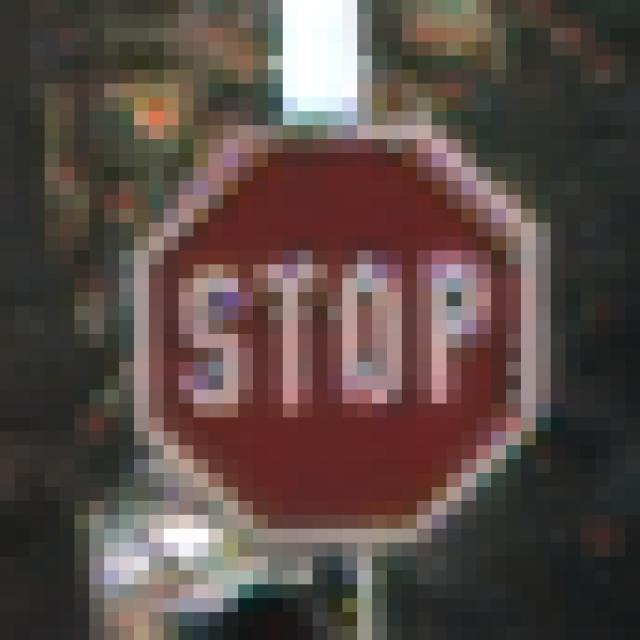STOP: (90, 85, 567, 572)
